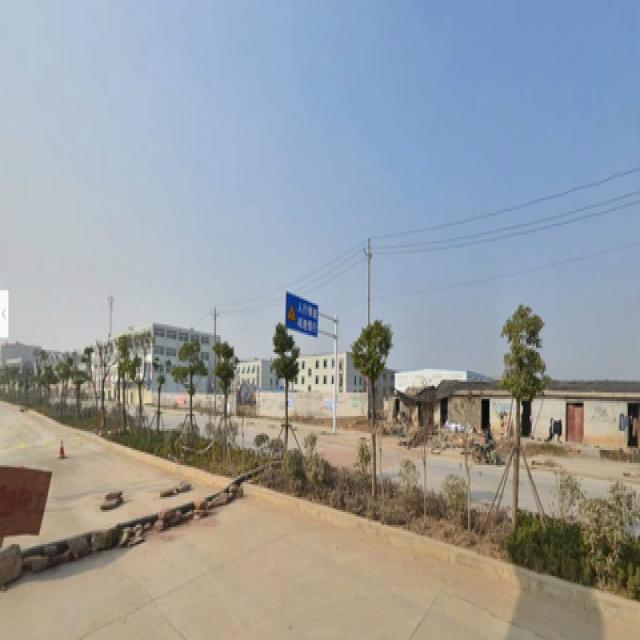cinn: (505, 312, 539, 518), (349, 331, 387, 495), (168, 337, 199, 433), (270, 326, 294, 448), (206, 331, 233, 433)
